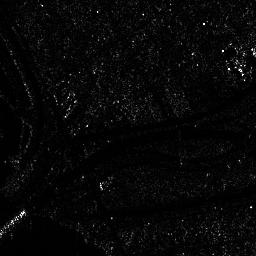ship: (1, 207, 27, 239)
